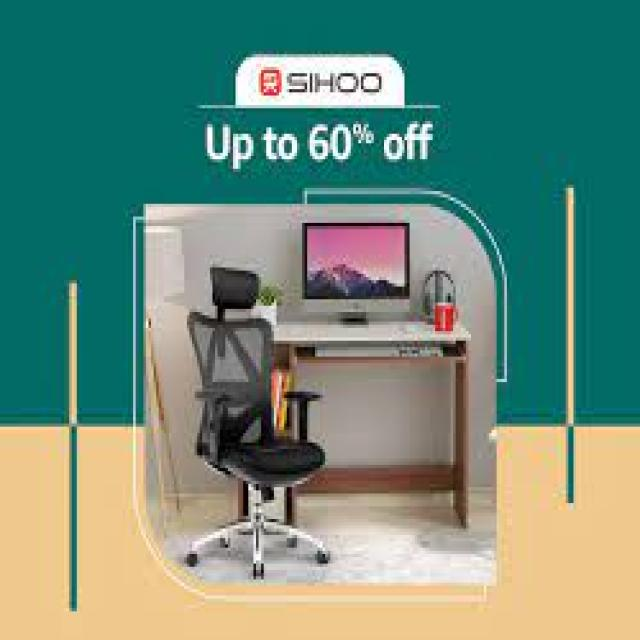chair: (137, 233, 359, 640)
